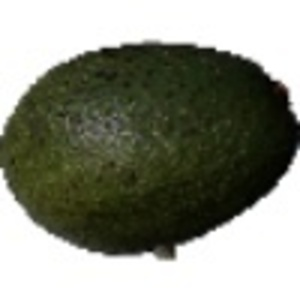abacate: (1, 37, 297, 243)
